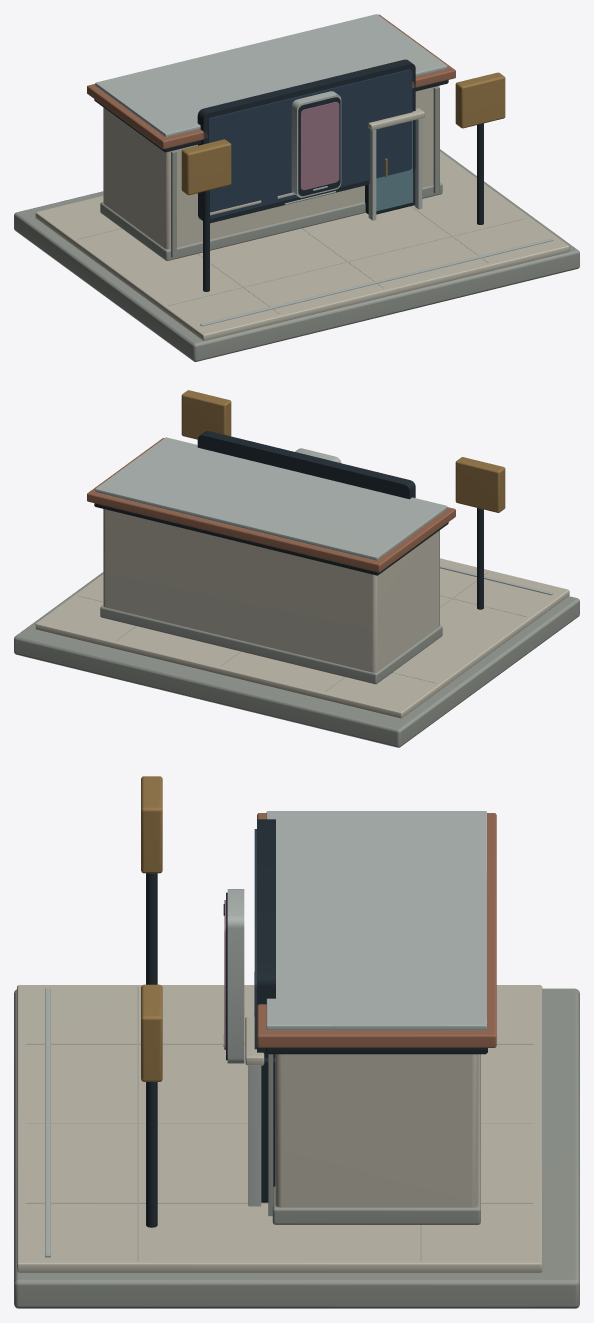
Rendered from idea-168b1b77.glb.
3 views of the same model, one above another, from view 1: azimuth 30°, elevation 25°; view 2: azimuth 150°, elevation 25°; view 3: azimuth 270°, elevation 25° (orthographic). The views are drawn at different scales.
Parts seen in each view (by area): view 1: Karmic Reels Studio; view 2: Karmic Reels Studio; view 3: Karmic Reels Studio.
Part boxes in pixels (x1,y1,x2,y2): Karmic Reels Studio: (14,14,579,361); Karmic Reels Studio: (14,390,579,747); Karmic Reels Studio: (14,776,579,1308).
Bounding box in the file's own units: 4.8 × 2.03 × 3.9.
